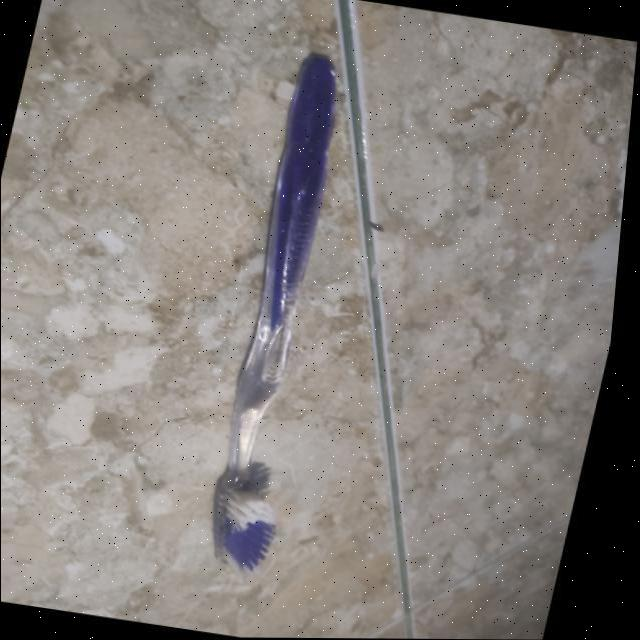toothbrush: (217, 50, 339, 582)
